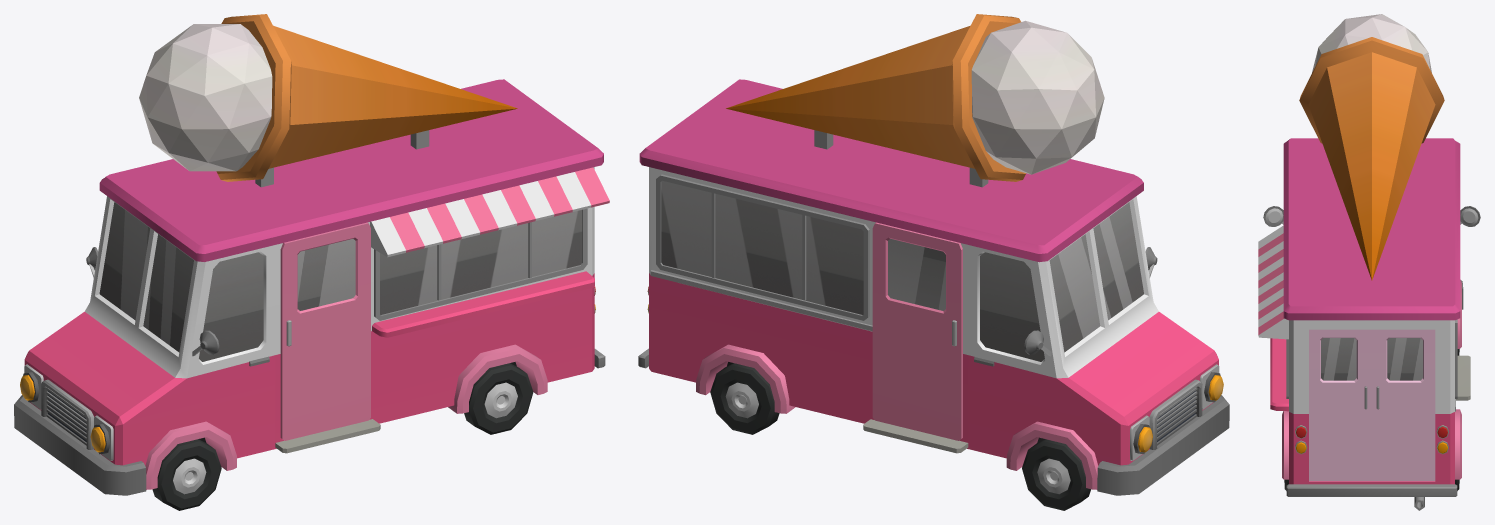
File: IceTruck_1_I.fbx
The picture shows the model from 3 angles, left to right: view 1: azimuth 30°, elevation 25°; view 2: azimuth 150°, elevation 25°; view 3: azimuth 270°, elevation 25°; orthographic projection. The views are drawn at different scales.
Parts seen in each view (by area): view 1: IceTruck_1_I, RL, FL; view 2: IceTruck_1_I, RR, FR; view 3: IceTruck_1_I.
Part boxes in pixels (x1,y1,x2,y2): IceTruck_1_I: (14, 14, 609, 495); RL: (464, 363, 533, 434); FL: (152, 439, 221, 510); IceTruck_1_I: (638, 14, 1229, 495); RR: (710, 363, 779, 434); FR: (1022, 439, 1090, 510); IceTruck_1_I: (1258, 14, 1480, 510).
Size of the model in its own units: 416 by 338 by 184.
